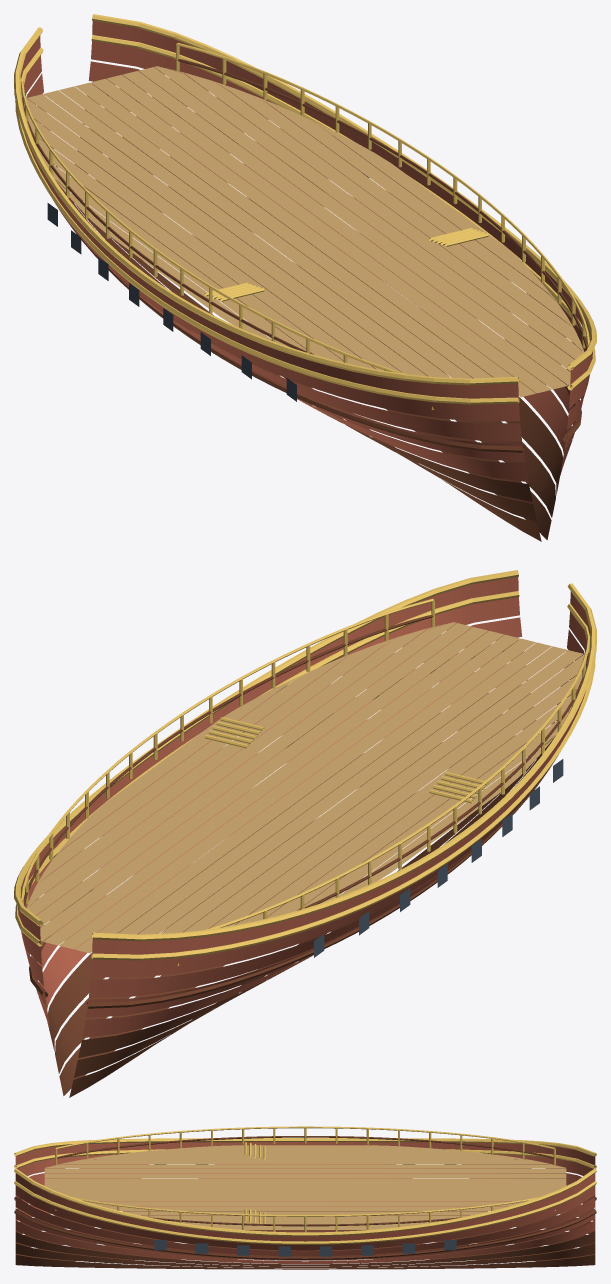
File: thousand-sunny-hull.glb
3 renders of one model, top to bottom at view 1: azimuth 30°, elevation 25°; view 2: azimuth 150°, elevation 25°; view 3: azimuth 270°, elevation 25°, orthographic. The views are drawn at different scales.
Parts seen in each view (by area): view 1: hull-role-deck.016, hull-role-hull.016, hull-role-trim.016, hull-role-hullDark.016, hull-role-metal.016; view 2: hull-role-deck.016, hull-role-hull.016, hull-role-trim.016, hull-role-hullDark.016, hull-role-metal.016; view 3: hull-role-deck.016, hull-role-hull.016, hull-role-hullDark.016, hull-role-trim.016, hull-role-metal.016.
Part boxes in pixels (<box>): hull-role-deck.016: <box>24,66,584,397</box>; hull-role-hull.016: <box>20,21,592,481</box>; hull-role-trim.016: <box>14,14,596,409</box>; hull-role-hullDark.016: <box>22,58,587,541</box>; hull-role-metal.016: <box>47,173,368,401</box>; hull-role-deck.016: <box>26,622,586,953</box>; hull-role-hull.016: <box>18,577,590,1037</box>; hull-role-trim.016: <box>14,570,596,965</box>; hull-role-hullDark.016: <box>23,614,588,1097</box>; hull-role-metal.016: <box>243,732,563,957</box>; hull-role-deck.016: <box>44,1145,566,1229</box>; hull-role-hull.016: <box>15,1142,595,1263</box>; hull-role-hullDark.016: <box>14,1136,596,1269</box>; hull-role-trim.016: <box>14,1126,596,1244</box>; hull-role-metal.016: <box>154,1164,456,1256</box>.
Size of the model in its own units: 21.96 by 11.02 by 56.31.
